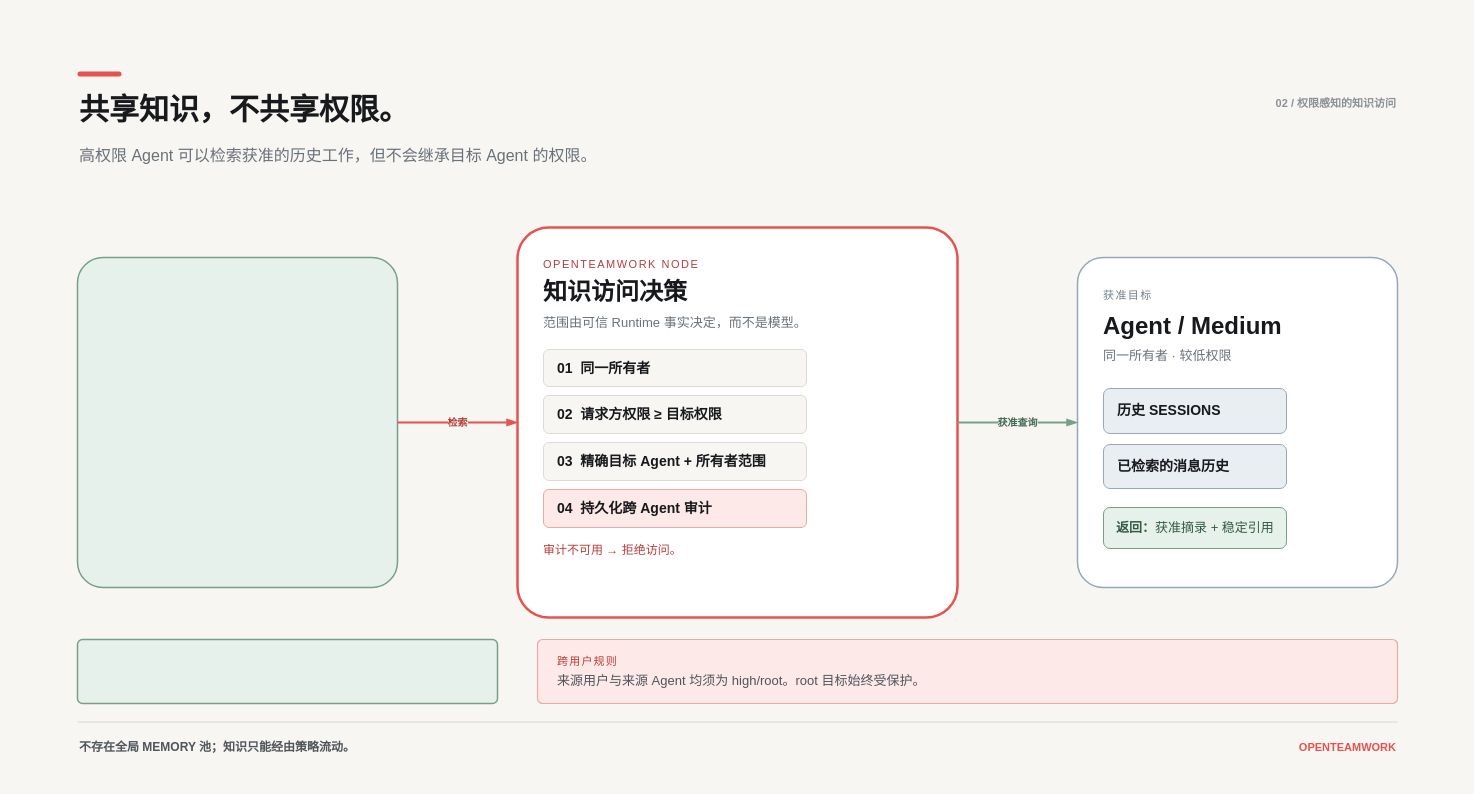
The diagram is 1474 pixels wide and 794 high, and some of its shapes have lost their labels. Here are the shapes that lost their labels. From the top down, the centre of each, then its label:
At point 237,422: "请求方 AGENT Agent / High 可信所有者 + Agent 身份 有效权限固定在 Runtime 中 检索请求 “查找之前的政策调研”".
At point 287,671: "返回请求方 引用知识，而非目标权限".
